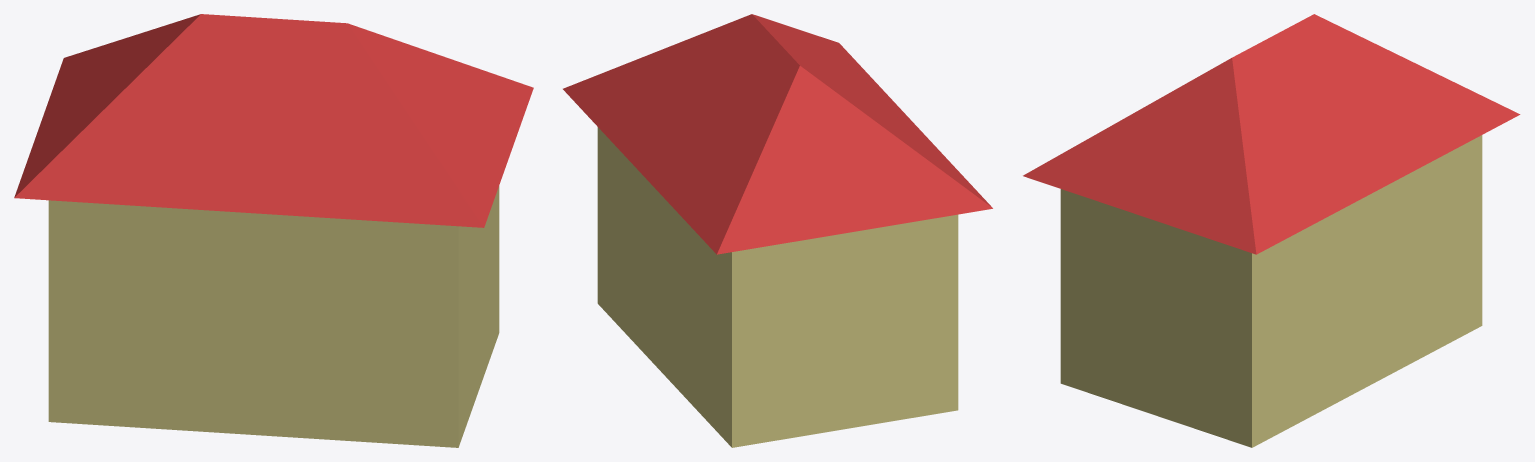
3 renders of one model, left to right at view 1: azimuth 30°, elevation 25°; view 2: azimuth 150°, elevation 25°; view 3: azimuth 270°, elevation 25°, orthographic. The views are drawn at different scales.
Parts seen in each view (by area): view 1: group_5, group_3, group_4; view 2: group_5, group_3, group_4; view 3: group_5, group_3, group_4.
Boxes of the visible parts, left/top/right/bottom form: group_5: left=48, top=186, right=499, bottom=447; group_3: left=14, top=14, right=533, bottom=227; group_4: left=15, top=164, right=483, bottom=227; group_5: left=597, top=127, right=958, bottom=447; group_3: left=563, top=14, right=992, bottom=254; group_4: left=563, top=38, right=992, bottom=223; group_5: left=1060, top=135, right=1482, bottom=447; group_3: left=1023, top=14, right=1520, bottom=254; group_4: left=1252, top=108, right=1459, bottom=254.
Bounding box in the file's own units: 19.04 × 18.3 × 12.95.
